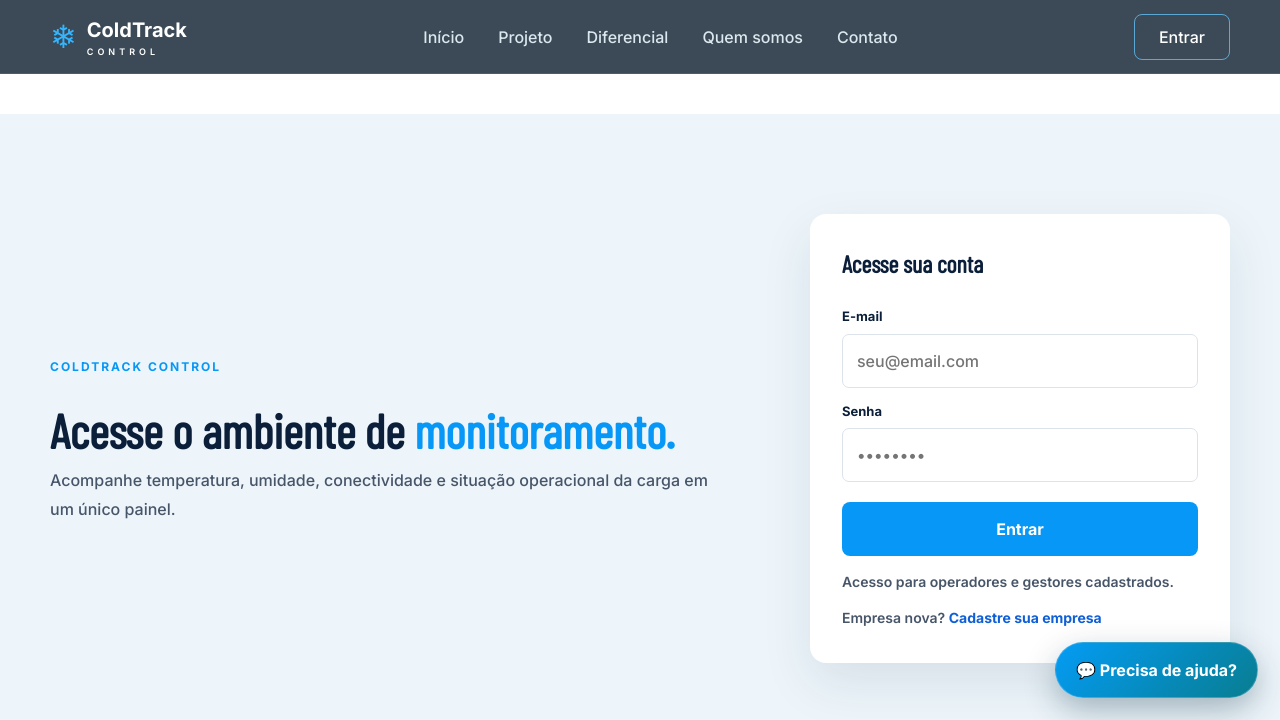
Test: Home › credenciais recusadas: mostra o erro da API e libera o botão
The width and height of the screenshot is (1280, 720).
Type "ana@empresa.com" into the field labelled "E-mail".
click(1020, 361); type("ana@empresa.com")  # box [842,334,1198,388]
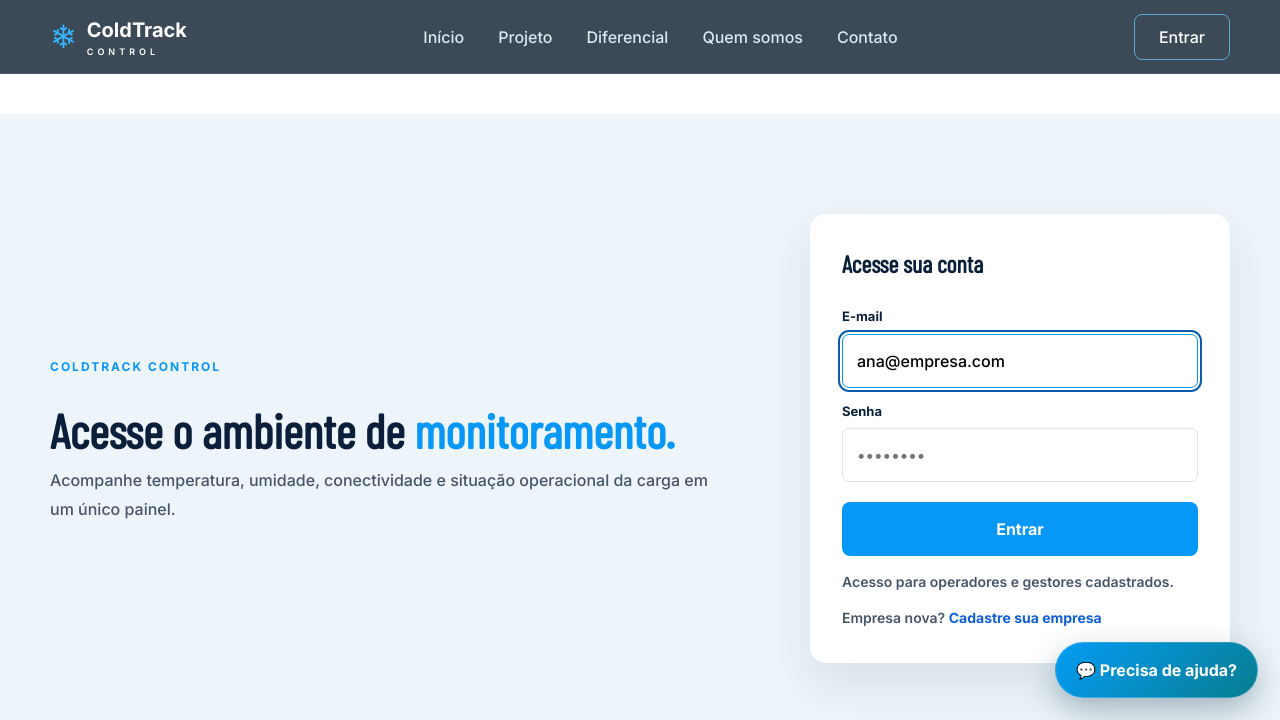
Type "errada" into the password field labelled "Senha".
click(1020, 455); type("errada")  # box [842,428,1198,482]
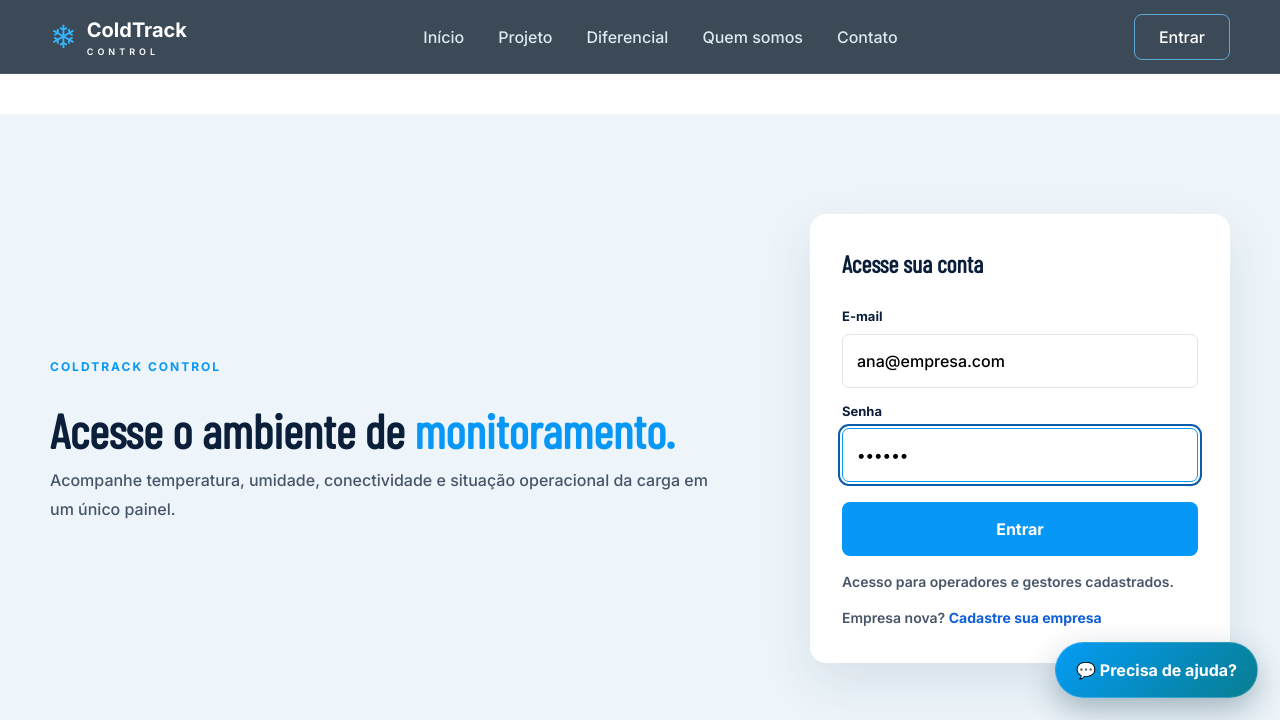
Click the button "Entrar".
click(1020, 529)  # box [842,502,1198,556]
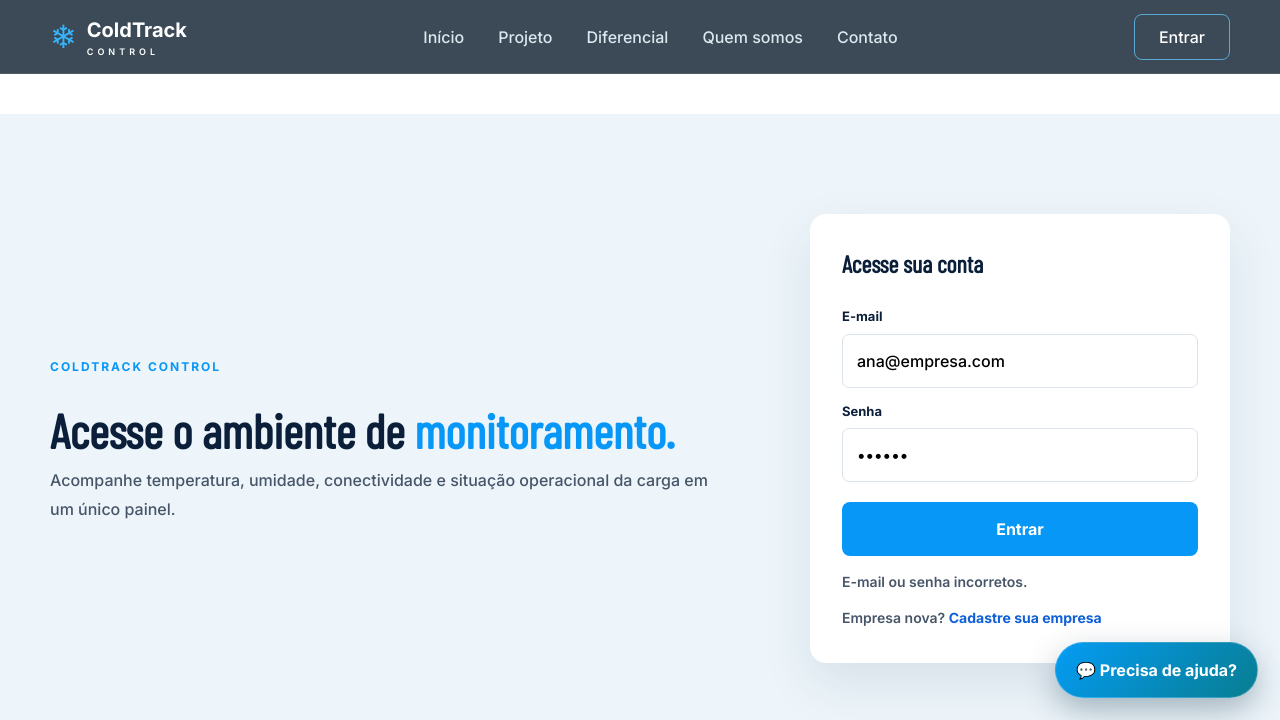
Now the text "E-mail ou senha incorretos." is shown, box [842,573,1027,590]
